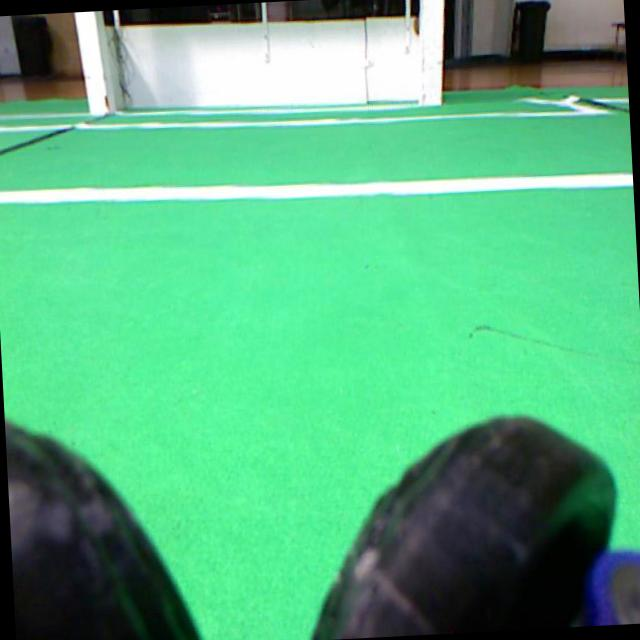goal: (75, 11, 108, 114), (419, 0, 443, 105)
